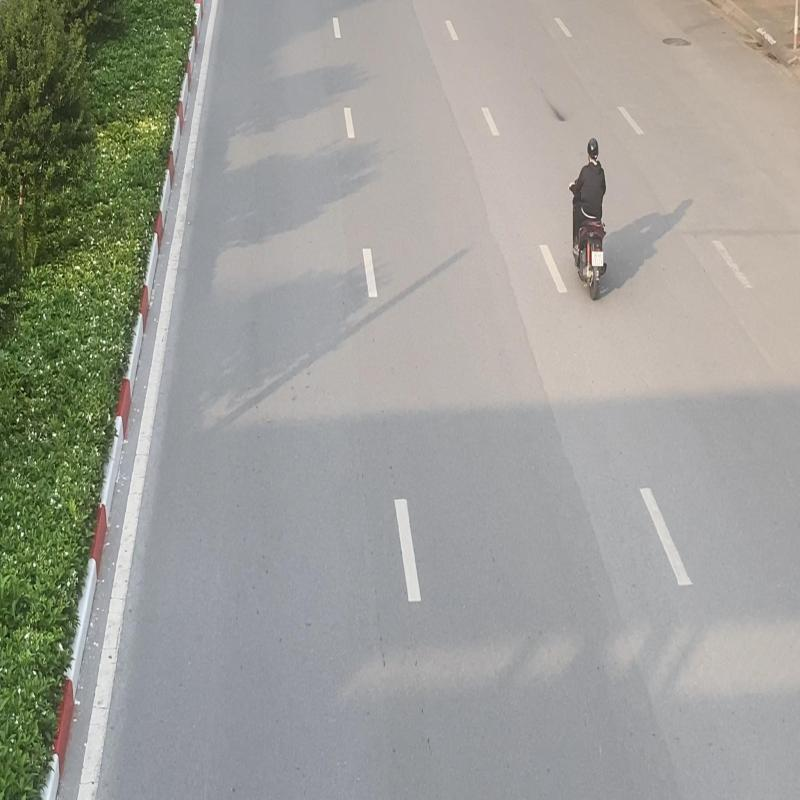helmet: (588, 137, 599, 162)
licenseplate: (591, 250, 604, 268)
motorcyclist: (567, 136, 608, 301)
